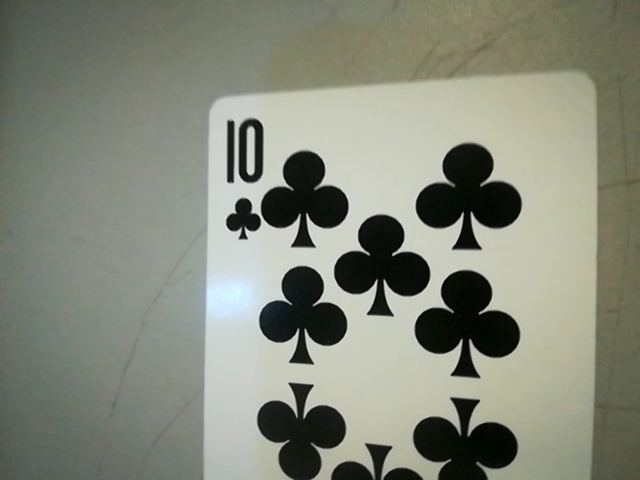mh 10: (209, 104, 270, 246)
